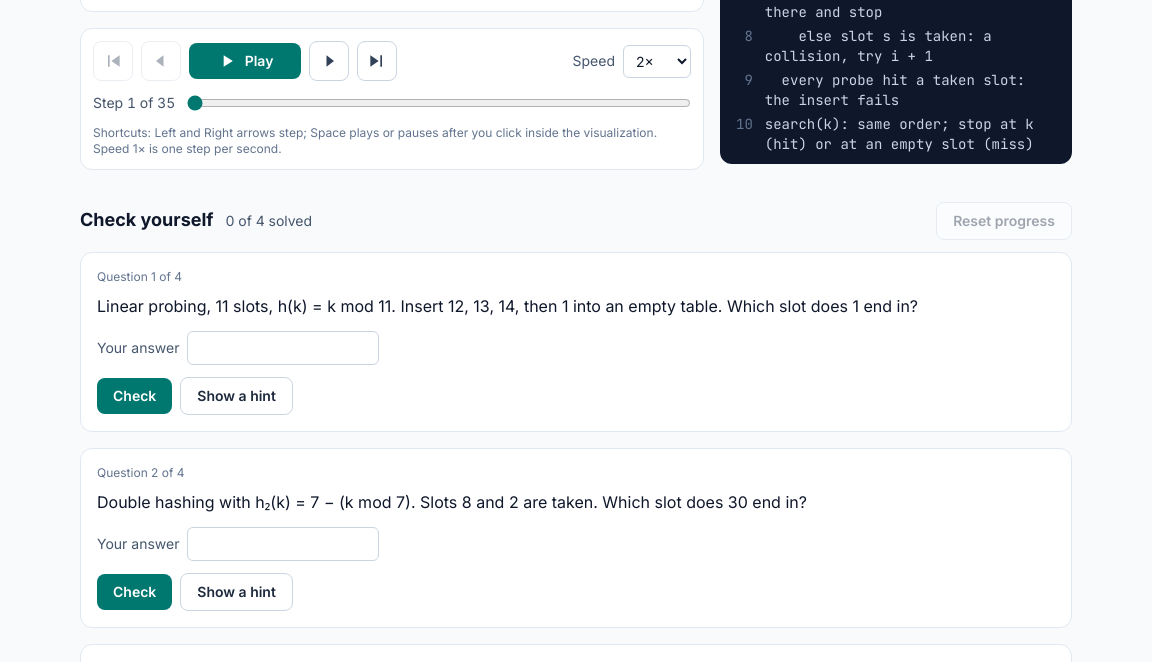
Test: collision resolution lesson › checks a practice answer, wrong then right, with a hint
(page scrolled)
Type "1" into the field named "answer". click: (284, 348)
box: [188,331,380,365]
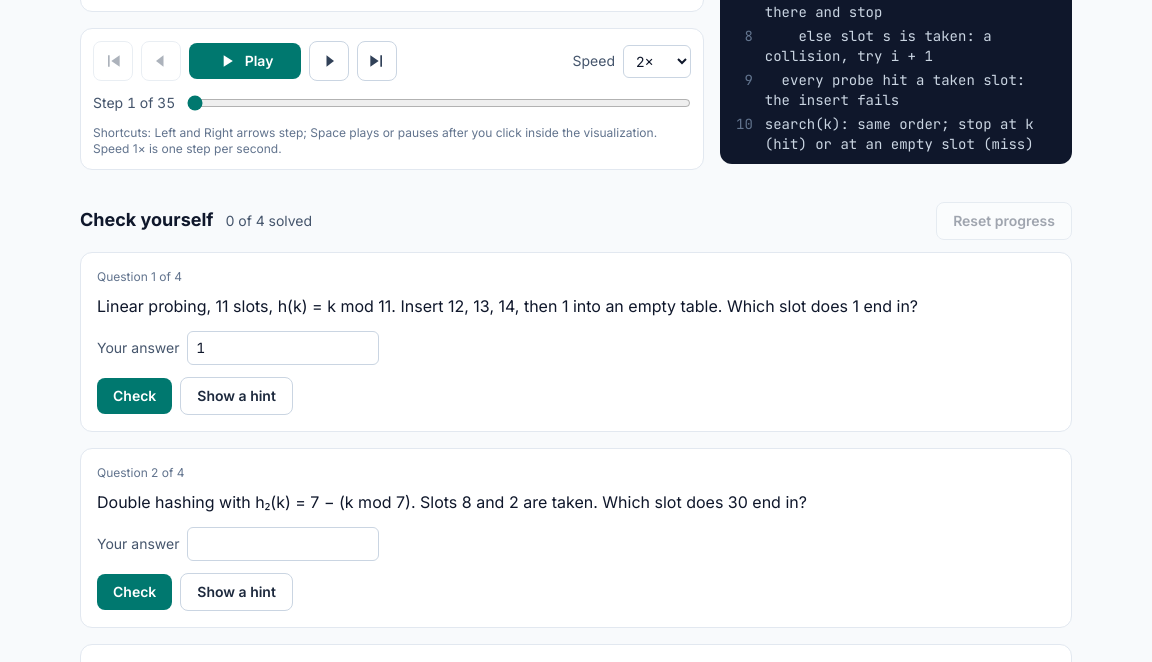
Submit the form "Your answer Check Show a hint" below "Question 1 of 4", box [97,331,380,415]
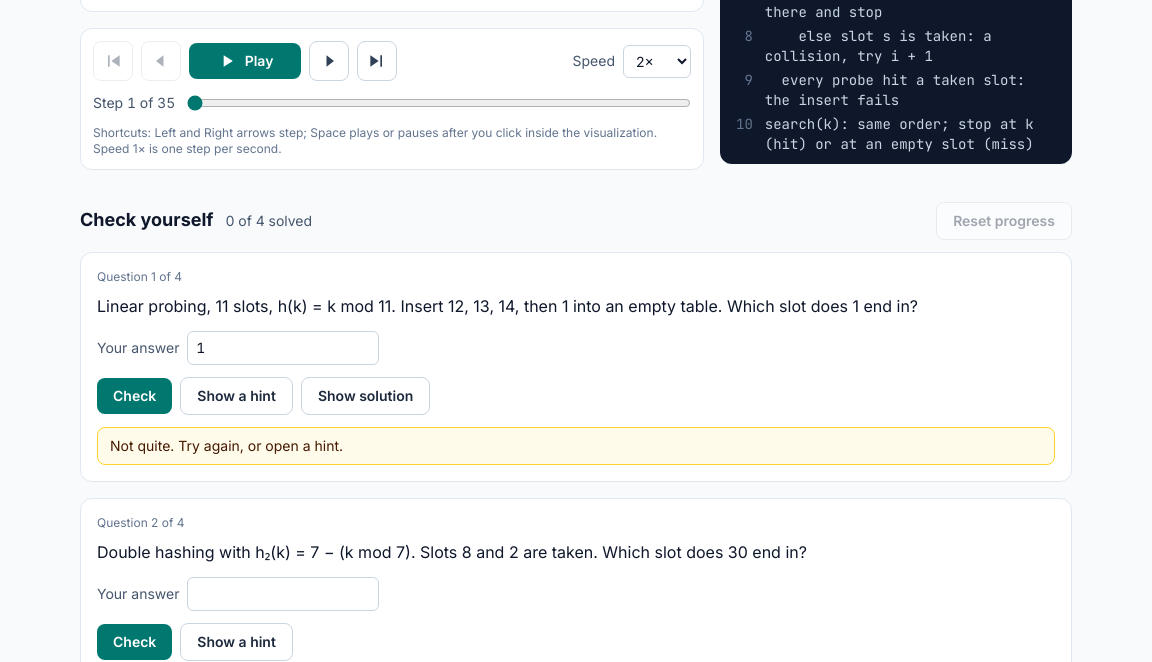
Now the list item that starts with "Question 1 of 4" shows "Not quite", box [110,437,343,454]
Click the button "Show a hint" below "Question 1 of 4". click: (237, 396)
box: [180,377,293,415]
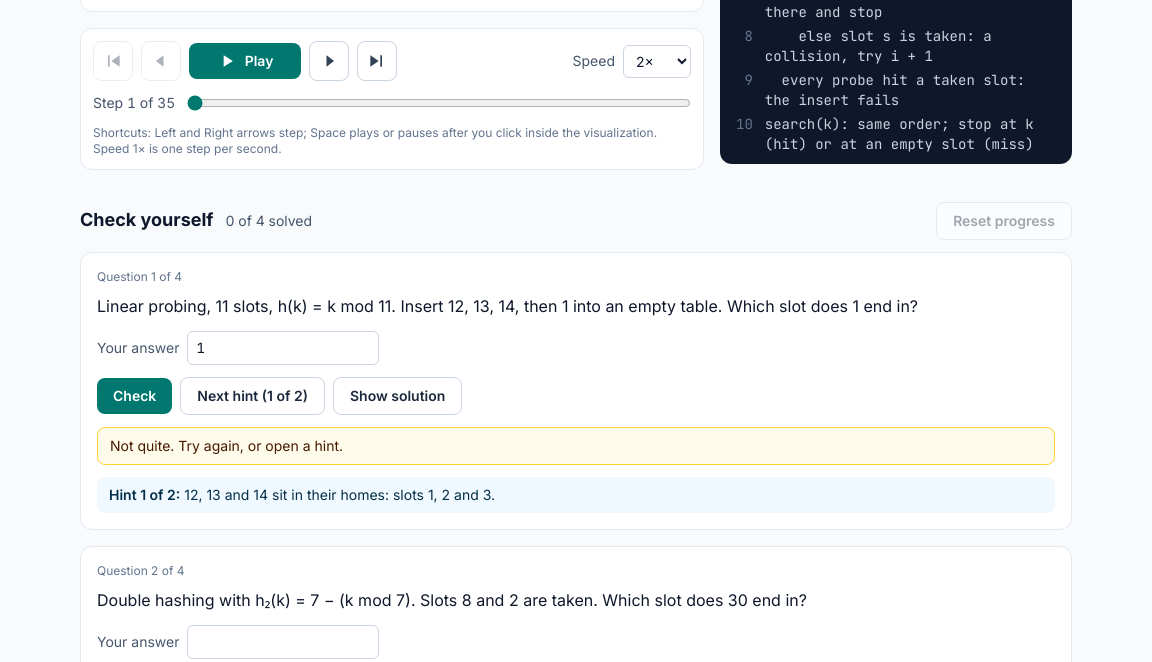
Now the list item that starts with "Question 1 of 4" shows "12, 13 and 14 sit in their homes: slots 1, 2 and 3.", box [180,486,495,503]
Replace the text in the field named "answer" with "4". click: (284, 348)
box: [188,331,380,365]
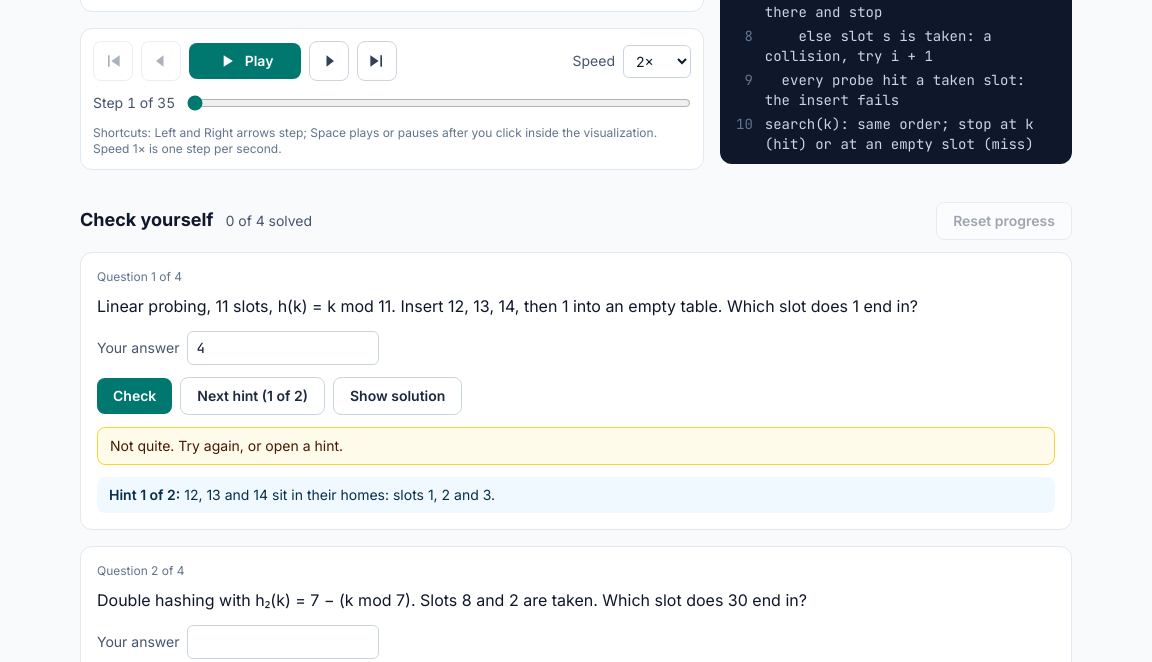
Submit the form "Your answer Check Next hint (1 of 2) Show solution", box [97,331,462,415]
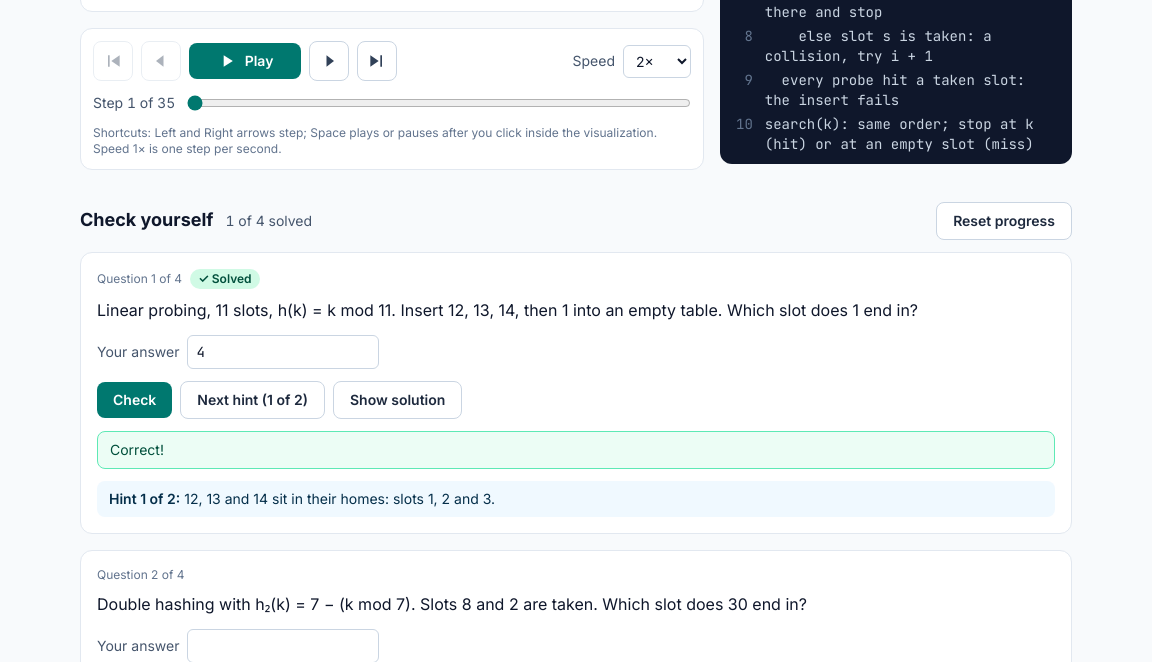
Now the list item that starts with "Question 1 of 4" shows "Correct!", box [110,441,164,458]
